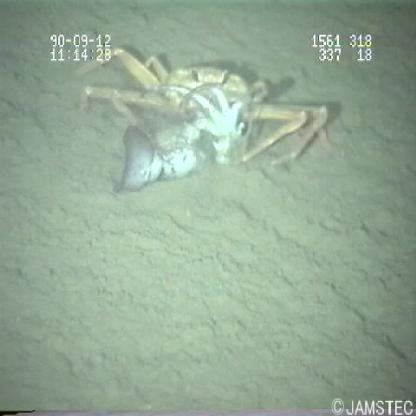Bio: (69, 40, 344, 202)
